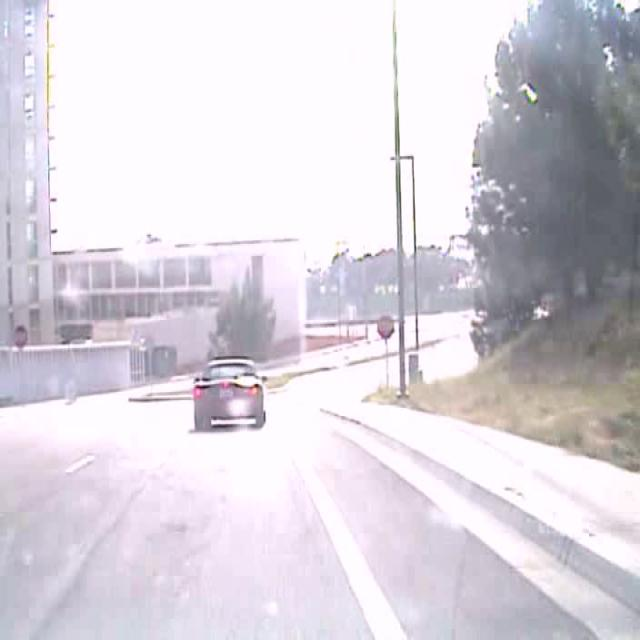stop: (376, 313, 394, 340)
